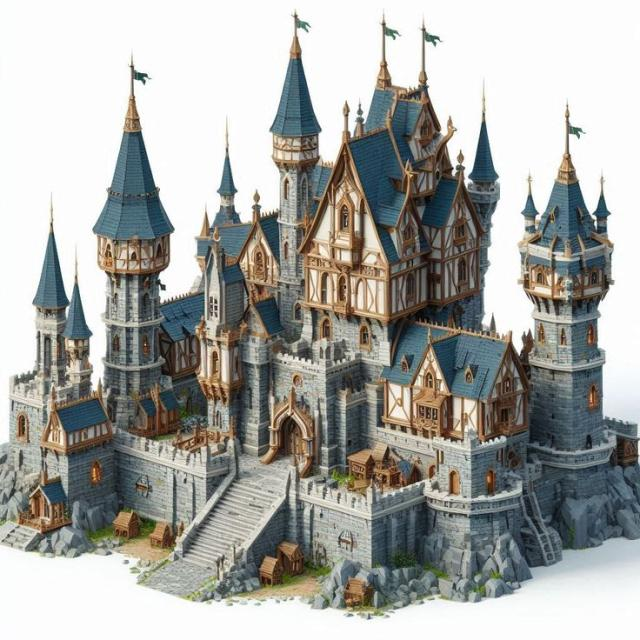castle: (0, 0, 626, 607)
